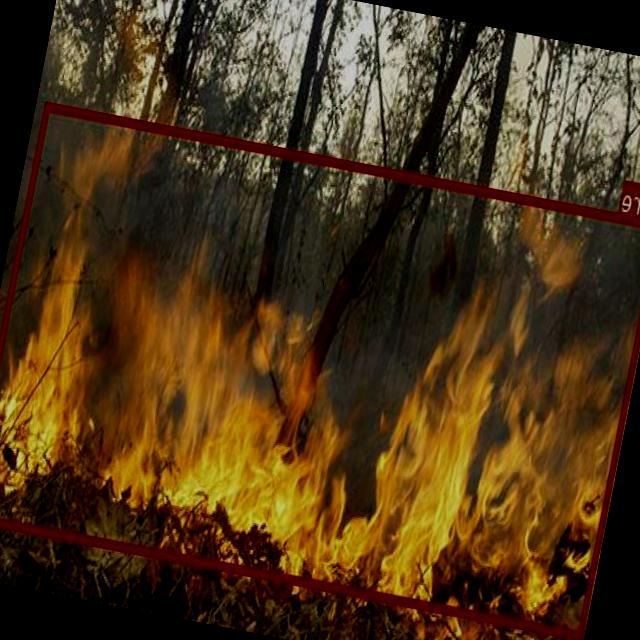fire: (0, 100, 640, 639)
